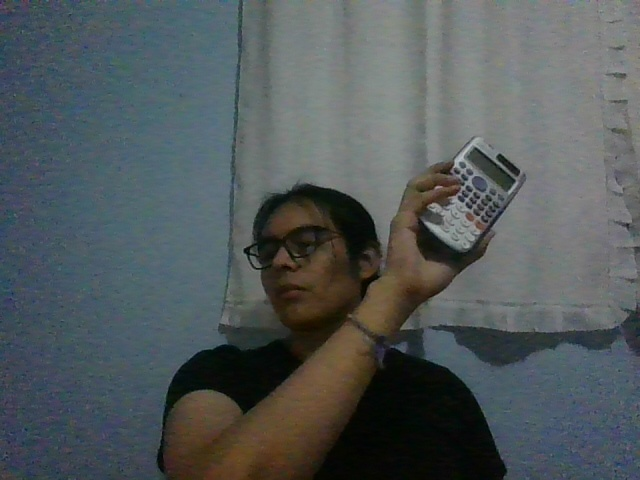calculadora: (417, 136, 527, 255)
